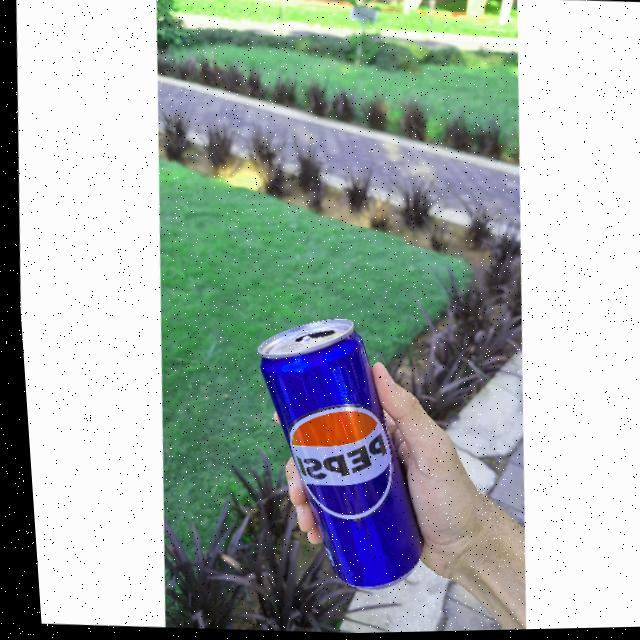Pepsi: (241, 323, 424, 596)
